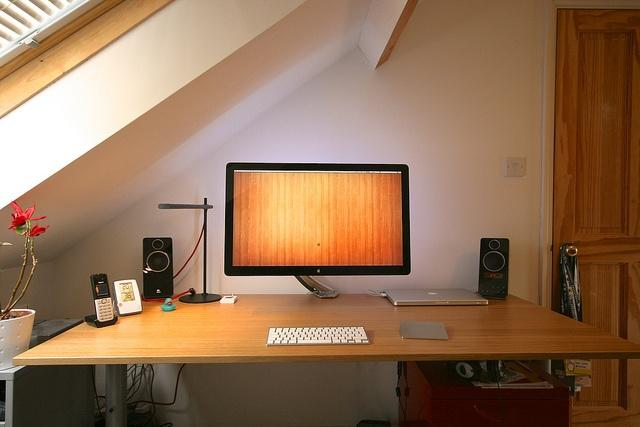AIO PC-Monitor-TV: (223, 161, 412, 276)
Meja: (9, 289, 639, 390)
